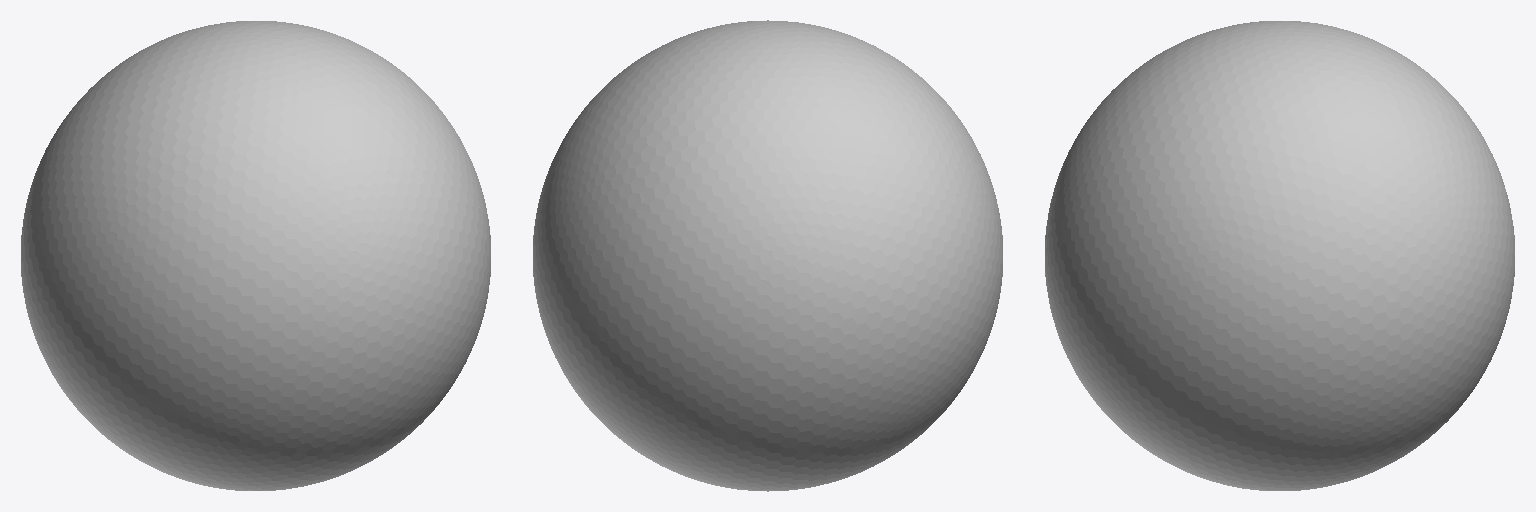
Rendered from globe.obj.
The picture shows the model from 3 angles: view 1: azimuth 30°, elevation 25°; view 2: azimuth 150°, elevation 25°; view 3: azimuth 270°, elevation 25°; orthographic projection.
Visible parts, largest first — view 1: GD_mesh.002; view 2: GD_mesh.002; view 3: GD_mesh.002.
Part boxes in pixels (left/top/right/bottom): GD_mesh.002: left=21, top=21, right=490, bottom=490; GD_mesh.002: left=533, top=20, right=1002, bottom=491; GD_mesh.002: left=1045, top=21, right=1514, bottom=490.
Bounding box in the file's own units: 19.98 × 19.99 × 20.